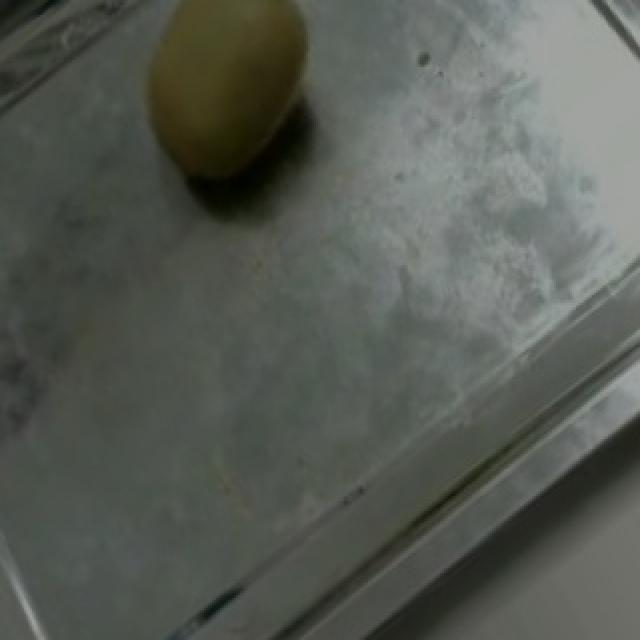Fruit: (104, 0, 354, 218)
